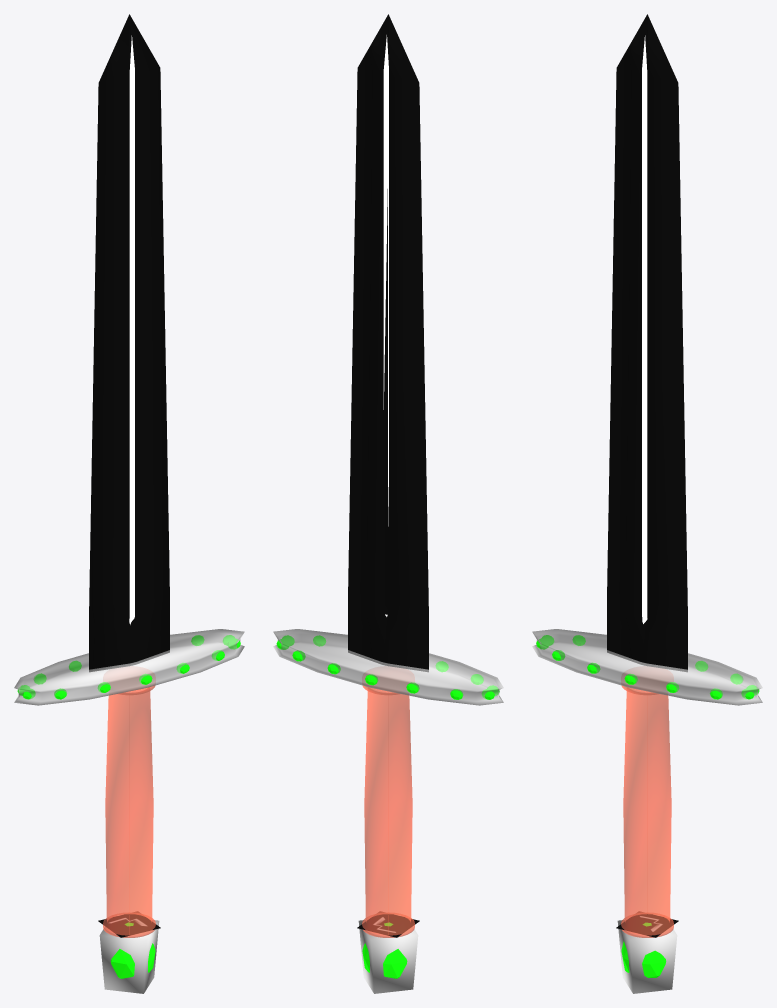
File: scifisword.glb
The picture shows the model from 3 angles, left to right: view 1: azimuth 30°, elevation 25°; view 2: azimuth 150°, elevation 25°; view 3: azimuth 330°, elevation 25°; orthographic projection.
Parts seen in each view (by area): view 1: Cube.001, Cylinder.001, Cylinder, Cube, Plane, Icosphere; view 2: Cube.001, Cylinder.001, Cylinder, Cube, Plane, Icosphere; view 3: Cube.001, Cylinder.001, Cylinder, Cube, Plane, Icosphere.
Part boxes in pixels (x1,y1,x2,y2): Cube.001: (89,14,169,671); Cylinder.001: (103,666,155,937); Cylinder: (14,629,244,705); Cube: (99,920,159,993); Plane: (98,912,160,937); Icosphere: (110,922,155,978); Cube.001: (348,14,428,671); Cylinder.001: (362,666,414,937); Cylinder: (273,629,503,705); Cube: (358,920,418,993); Plane: (357,912,419,937); Icosphere: (362,922,407,978); Cube.001: (607,14,687,671); Cylinder.001: (621,666,673,937); Cylinder: (532,629,762,705); Cube: (617,920,677,993); Plane: (616,912,678,937); Icosphere: (621,923,666,977).
Bounding box in the file's own units: 7.39 × 29.66 × 2.14.
6 materials, 1 textured.
